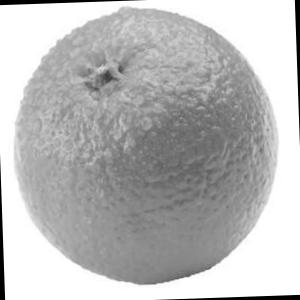fruit: (0, 3, 294, 296)
